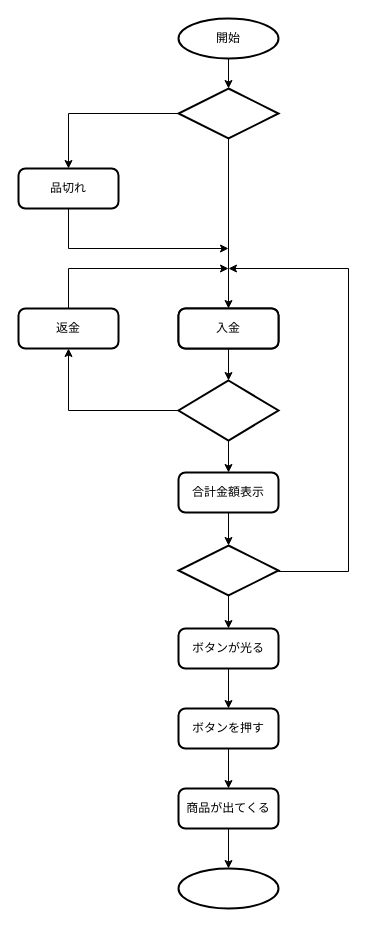
Image size: 374x926. Some labels were removed from this diagram. Each missing label, with the box of its shape:
在庫がある: (177, 87, 279, 139)
定価以上: (177, 544, 279, 596)
想定されたお金: (177, 379, 279, 441)
終了: (177, 867, 279, 909)
